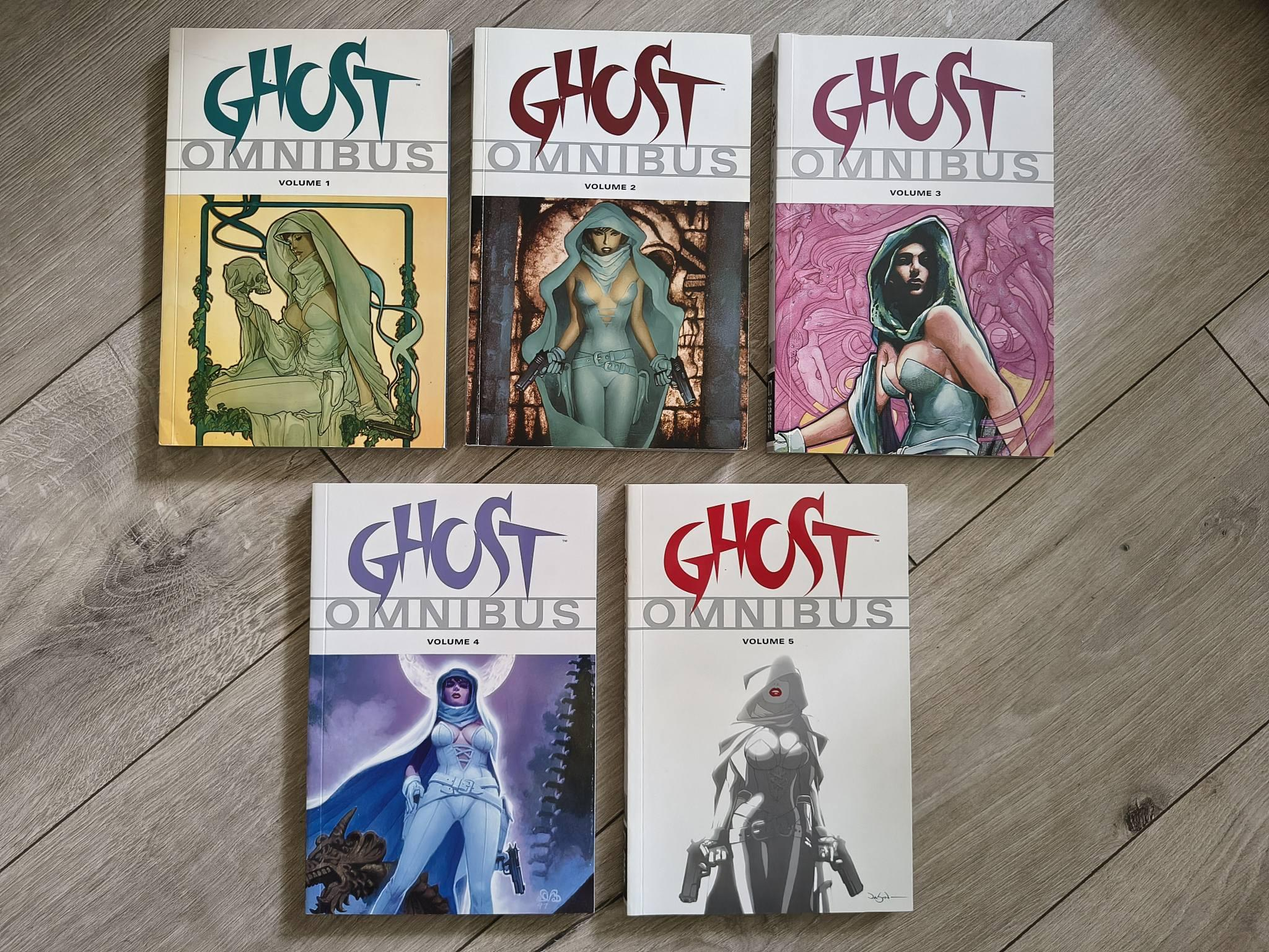comic: (304, 483, 596, 916), (158, 26, 451, 449), (768, 34, 1060, 456), (626, 484, 912, 914), (467, 28, 754, 450)
